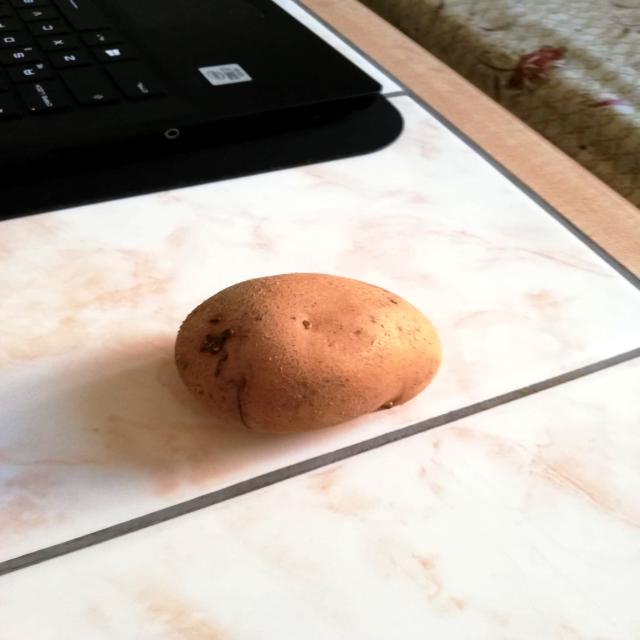potato: (165, 266, 449, 436)
